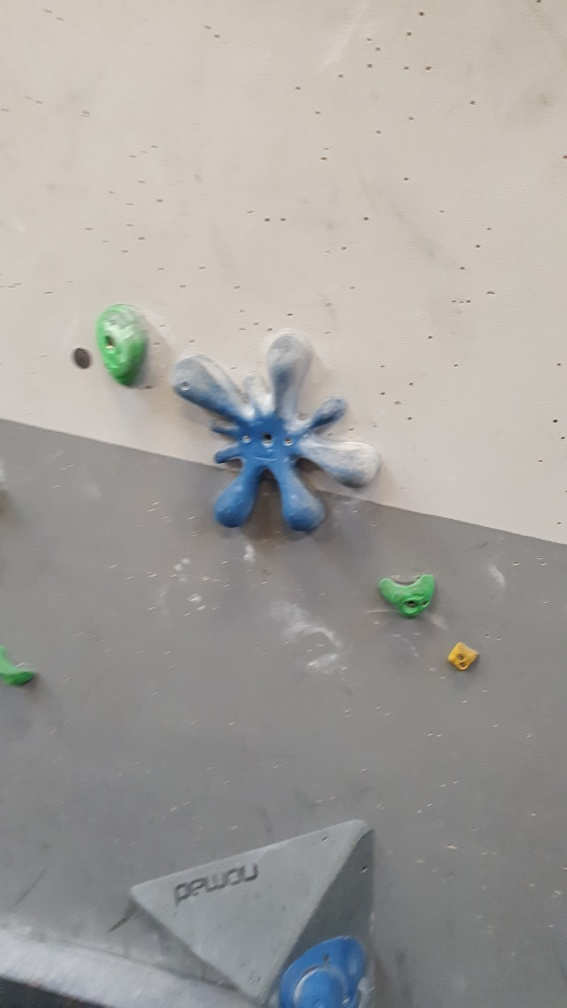Hand Start: (67, 346, 95, 371)
Jug: (91, 301, 158, 399), (376, 563, 434, 625)
Octopus Pinch: (171, 327, 380, 534)
